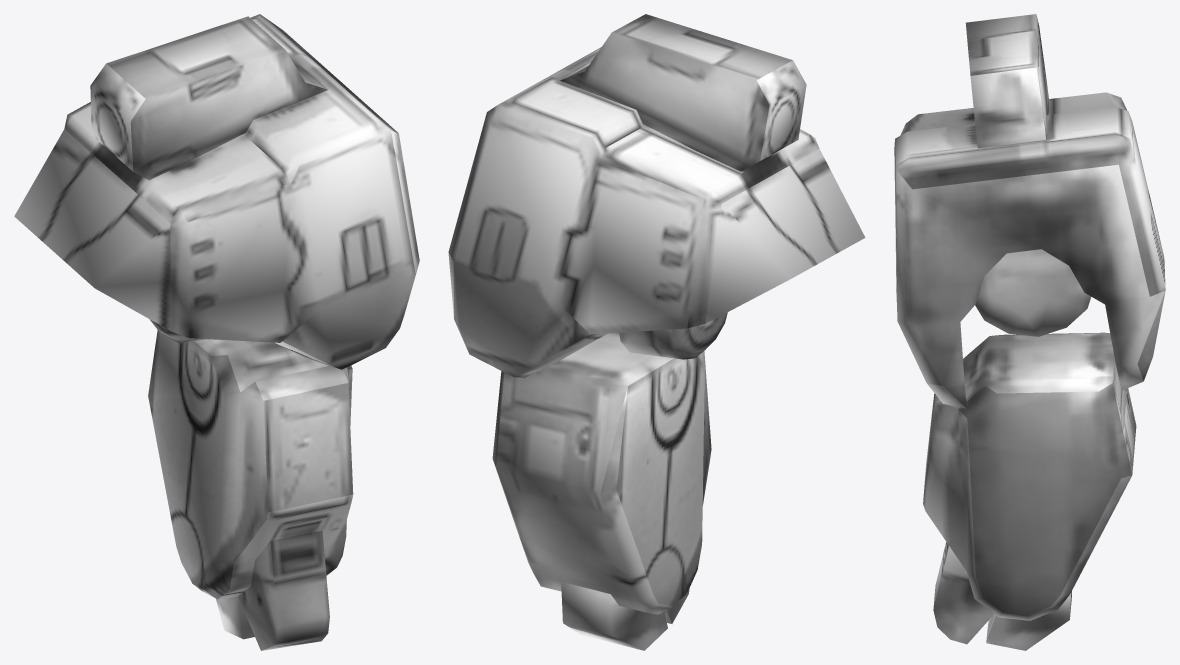
The model's file is r_upper.glb.
The picture shows the model from 3 angles, left to right: view 1: azimuth 30°, elevation 25°; view 2: azimuth 150°, elevation 25°; view 3: azimuth 270°, elevation 25°; orthographic projection. The views are drawn at different scales.
Visible parts, largest first — view 1: r_upper; view 2: r_upper; view 3: r_upper.
Part boxes in pixels (box(x1,y1,x2,y2)): r_upper: box(14, 14, 419, 650); r_upper: box(448, 14, 865, 650); r_upper: box(894, 14, 1165, 650).
Bounding box in the file's own units: 0.5044 × 0.9363 × 0.4061.
Materials: 3 (3 with a texture image).
